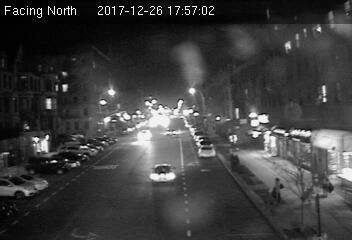car: (150, 163, 177, 184), (196, 144, 215, 157), (136, 129, 153, 140), (165, 126, 176, 136)
